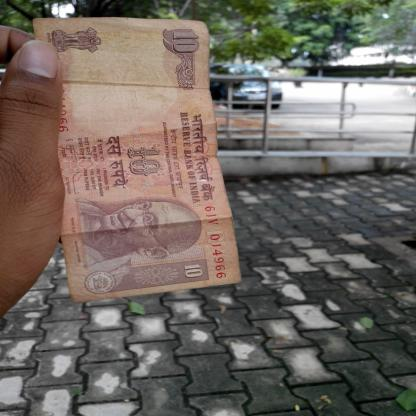Old10Front: (31, 17, 243, 301)
